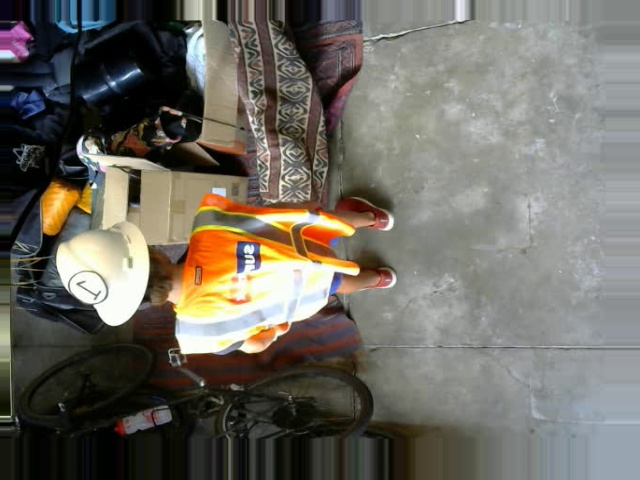one: (67, 269, 106, 304)
